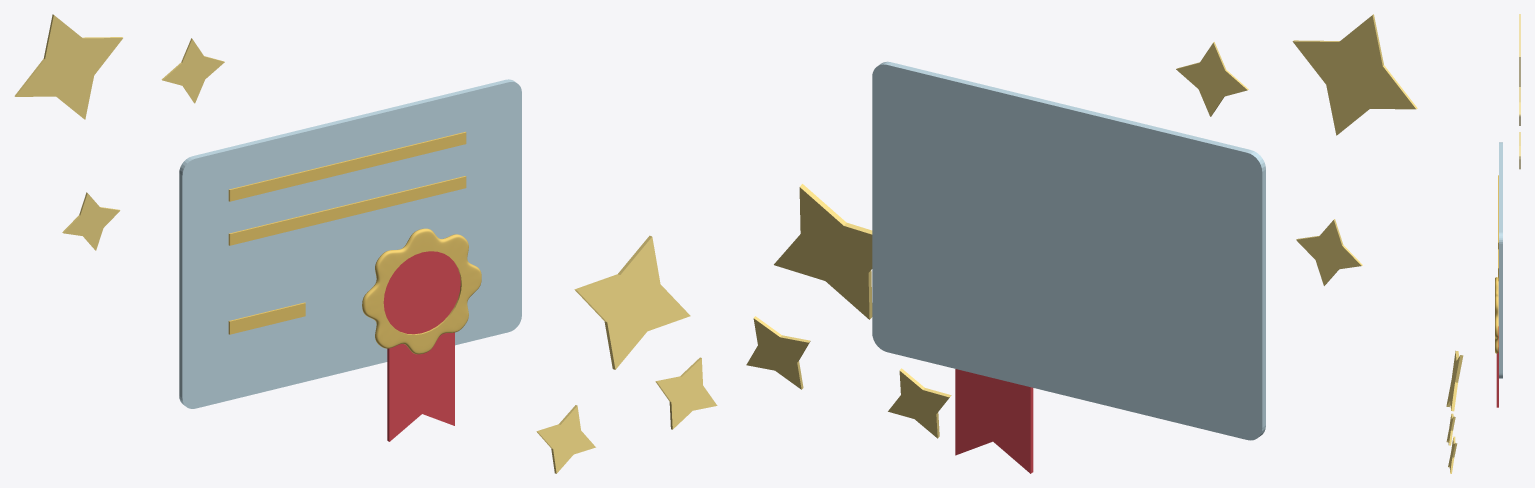
The model's file is certificate.glb.
3 renders of one model, left to right at view 1: azimuth 30°, elevation 25°; view 2: azimuth 150°, elevation 25°; view 3: azimuth 270°, elevation 25°, orthographic. The views are drawn at different scales.
Visible parts, largest first — view 1: Plane, Circle.001, Star.003, Plane.001, Star, Plane.002, Plane.003, Star.004, Star.005, Star.001, Star.002, Plane.004; view 2: Plane, Star.003, Star, Plane.001, Star.004, Star.001, Star.005, Star.002; view 3: Plane, Star.003, Circle.001, Plane.001, Star.004, Star.005, Star.
Part boxes in pixels (<box>): Plane: <box>179,79,521,408</box>; Circle.001: <box>362,228,481,354</box>; Star.003: <box>574,235,690,369</box>; Plane.001: <box>387,332,454,441</box>; Star: <box>14,14,122,119</box>; Plane.002: <box>228,176,466,245</box>; Plane.003: <box>228,131,466,201</box>; Star.004: <box>655,357,717,429</box>; Star.005: <box>536,405,595,473</box>; Star.001: <box>161,38,224,103</box>; Star.002: <box>62,192,120,250</box>; Plane.004: <box>228,302,305,334</box>; Plane: <box>872,61,1265,440</box>; Star.003: <box>774,184,872,319</box>; Star: <box>1292,14,1417,135</box>; Plane.001: <box>955,369,1033,473</box>; Star.004: <box>746,316,810,389</box>; Star.001: <box>1176,42,1248,116</box>; Star.005: <box>888,368,951,438</box>; Star.002: <box>1296,219,1362,285</box>; Plane: <box>1499,142,1502,378</box>; Star.003: <box>1446,350,1463,411</box>; Circle.001: <box>1495,277,1498,353</box>; Plane.001: <box>1496,326,1498,407</box>; Star.004: <box>1448,436,1457,473</box>; Star.005: <box>1446,413,1455,445</box>; Star: <box>1519,14,1520,86</box>.
Size of the model in its own units: 4.4 by 3.41 by 0.7577.
